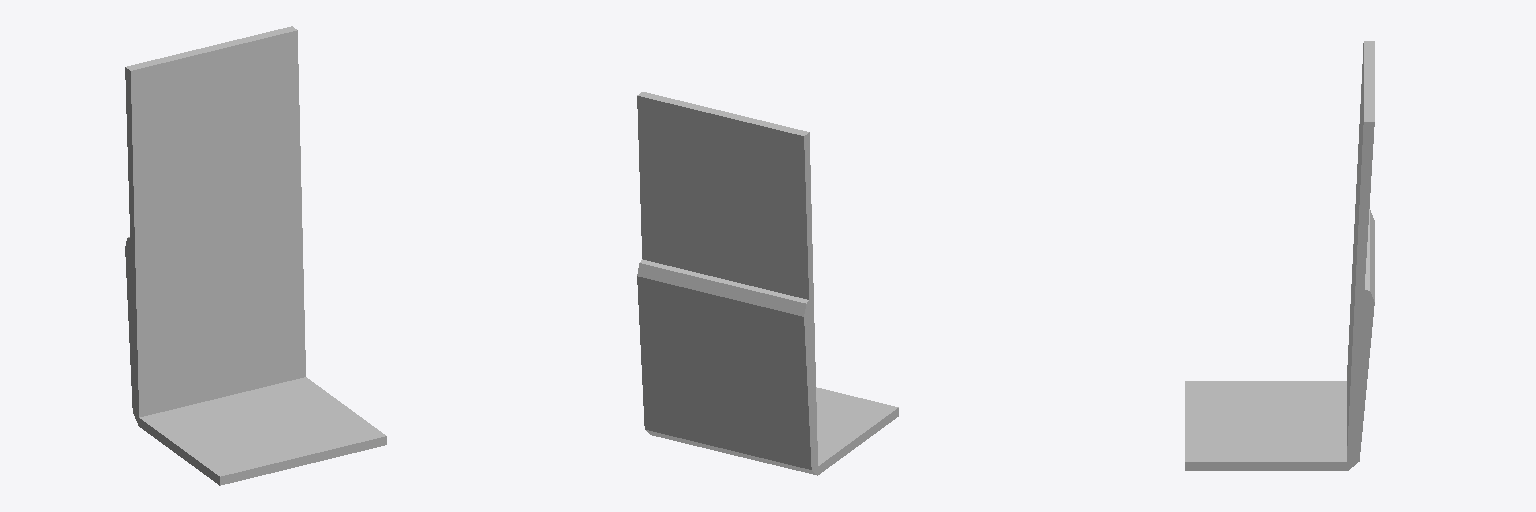
Rendered from base_building_top_edge_tile.obj.
The picture shows the model from 3 angles: view 1: azimuth 30°, elevation 25°; view 2: azimuth 150°, elevation 25°; view 3: azimuth 270°, elevation 25°; orthographic projection.
Parts seen in each view (by area): view 1: top_edge_Cube.009; view 2: top_edge_Cube.009; view 3: top_edge_Cube.009.
Boxes of the visible parts, box(x1,y1,x2,y2) form: top_edge_Cube.009: box(125, 26, 386, 485); top_edge_Cube.009: box(637, 92, 898, 475); top_edge_Cube.009: box(1185, 41, 1374, 470).
Bounding box in the file's own units: 2 × 4 × 1.97.